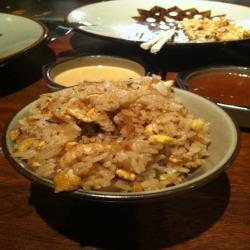ketchup: (181, 65, 249, 119)
rice: (17, 78, 210, 200)
